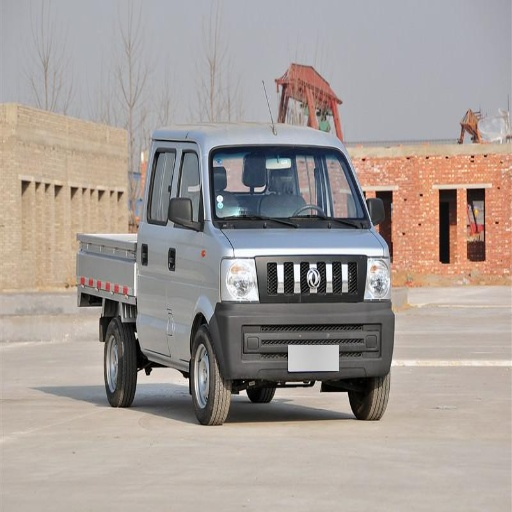front_bumper: (221, 255, 390, 384)
front_left_light: (363, 251, 391, 299)
front_right_light: (227, 256, 258, 301)
hood: (242, 218, 383, 255)
trunk: (136, 232, 236, 350)
